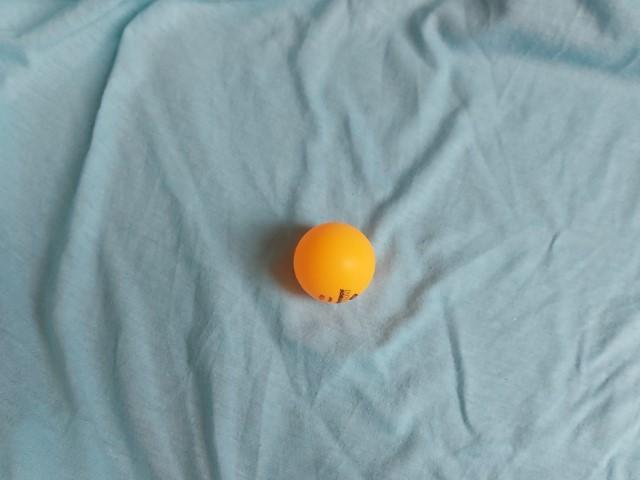oball: (285, 216, 387, 316)
